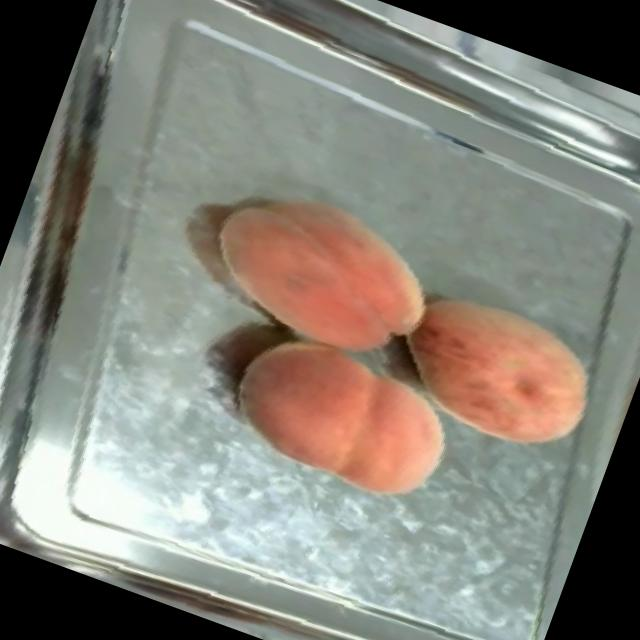Fruit: (184, 160, 458, 386), (203, 310, 478, 526), (372, 268, 621, 478), (605, 90, 640, 179)
